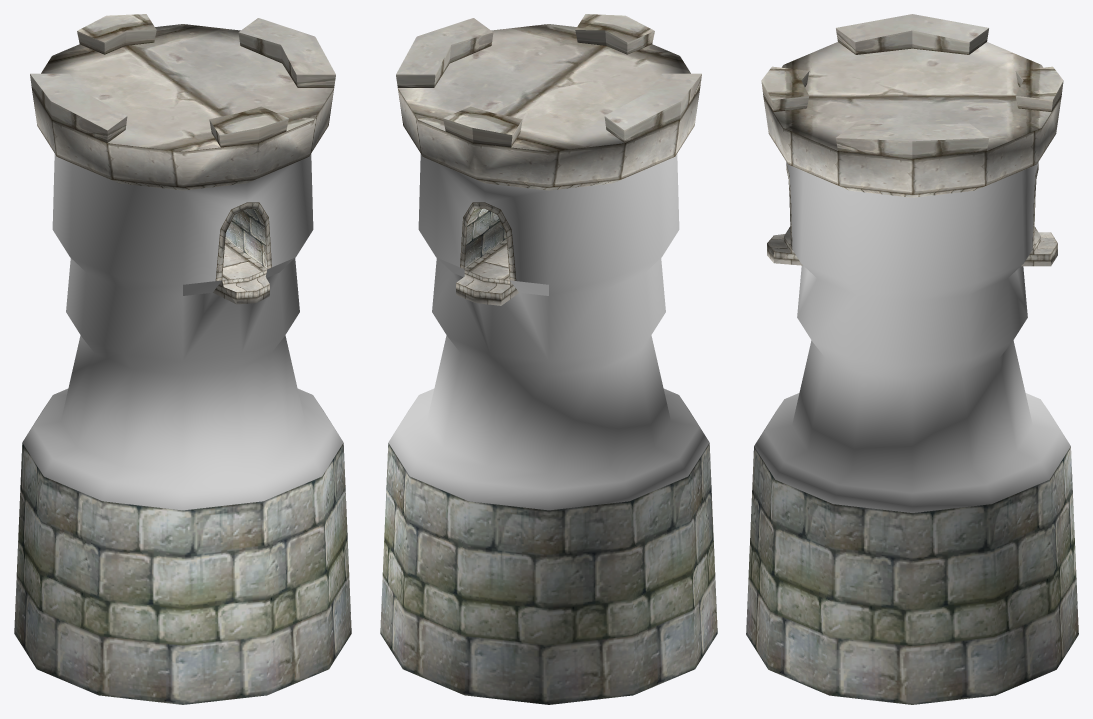
The model's file is wallposttunnel01.obj.
3 renders of one model, left to right at view 1: azimuth 30°, elevation 25°; view 2: azimuth 150°, elevation 25°; view 3: azimuth 270°, elevation 25°, orthographic.
Parts seen in each view (by area): view 1: WallPostTunnel01; view 2: WallPostTunnel01; view 3: WallPostTunnel01.
Part boxes in pixels (x1,y1,x2,y2): WallPostTunnel01: (14,14,351,704); WallPostTunnel01: (380,14,717,704); WallPostTunnel01: (746,14,1078,704).
Size of the model in its own units: 20.93 by 38.66 by 20.93.
